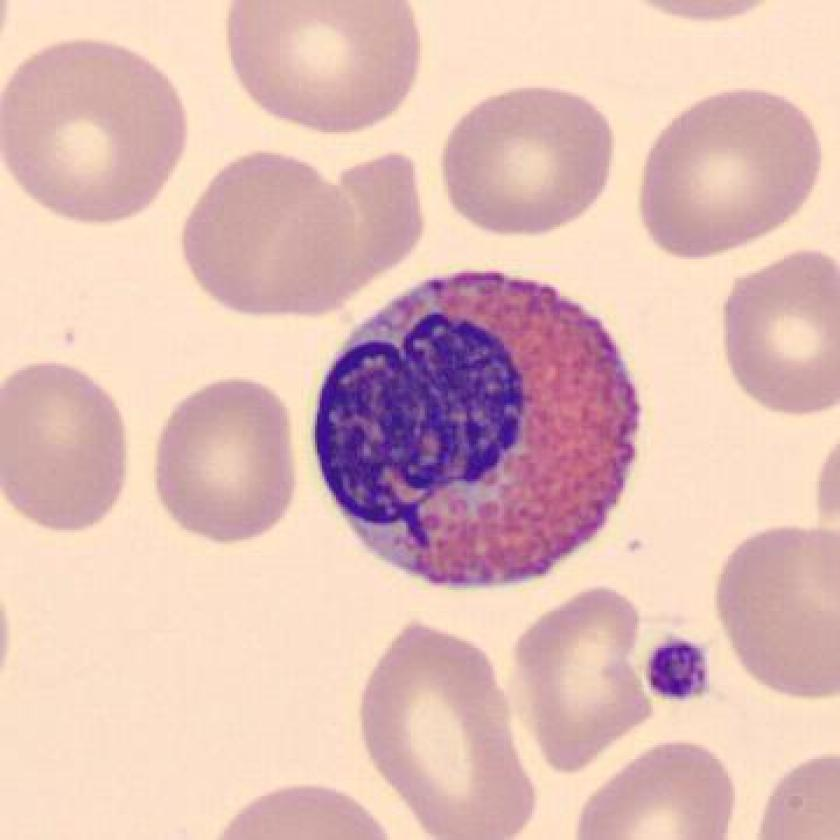eosinophil: (302, 253, 654, 603)
